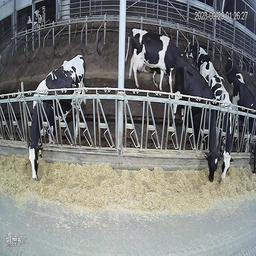cow: (26, 55, 87, 180), (172, 53, 221, 183), (206, 67, 235, 179), (136, 38, 194, 92), (233, 79, 255, 174), (27, 5, 47, 36), (133, 29, 162, 47), (225, 51, 241, 83)
